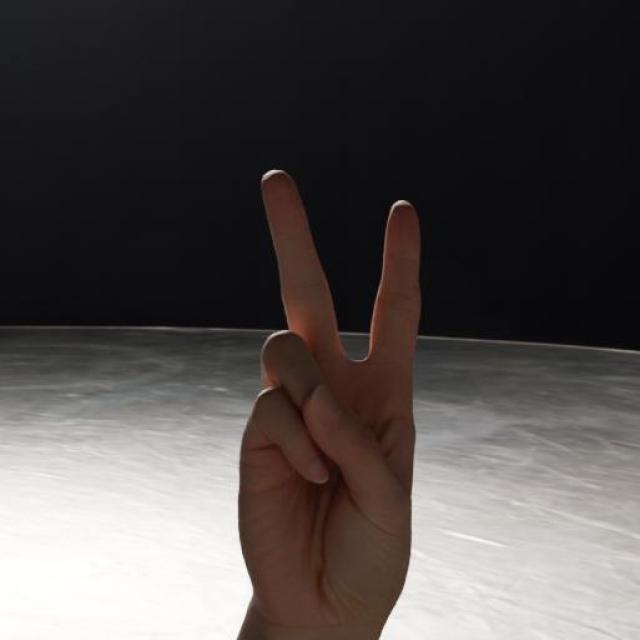V: (220, 168, 444, 611)
